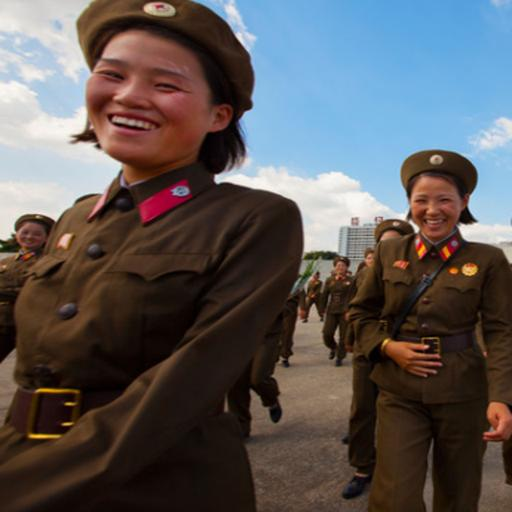north army: (5, 4, 303, 512)
